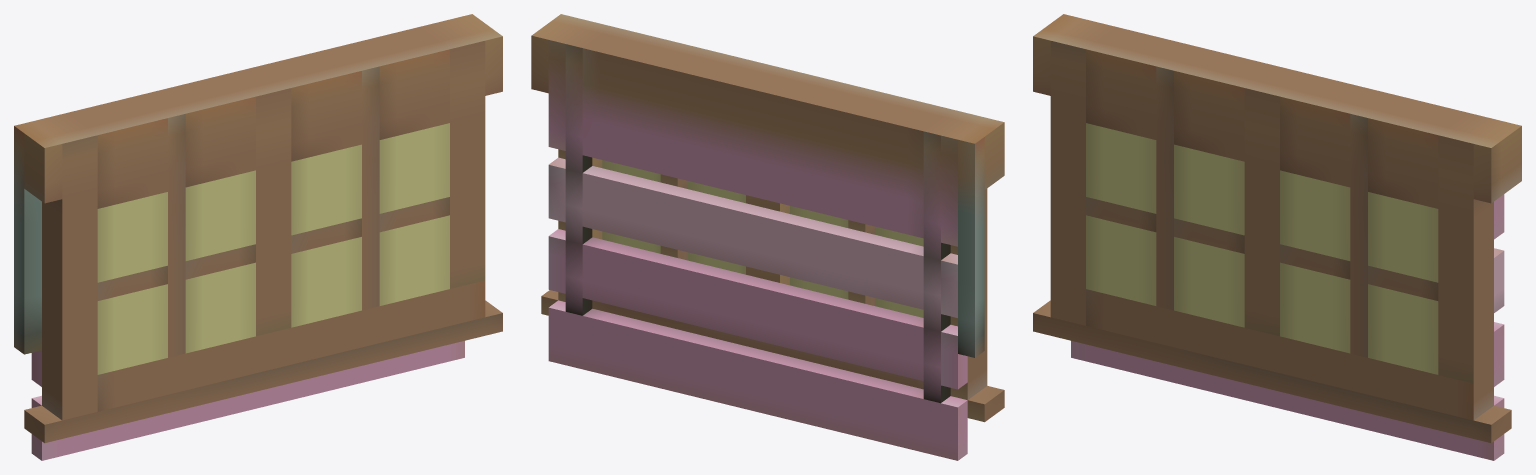
Rendered from BlindsPink_A_00.fbx.
3 views of the same model, side by side, from view 1: azimuth 30°, elevation 25°; view 2: azimuth 150°, elevation 25°; view 3: azimuth 330°, elevation 25° (orthographic). The views are drawn at different scales.
Visible parts, largest first — view 1: BlindsPink_A_00; view 2: BlindsPink_A_00; view 3: BlindsPink_A_00.
Part boxes in pixels (<box>): BlindsPink_A_00: <box>14,14,502,460</box>; BlindsPink_A_00: <box>531,14,1004,460</box>; BlindsPink_A_00: <box>1033,14,1521,460</box>.
Bounding box in the file's own units: 130 × 15 × 90.
2 materials, 2 textured.
